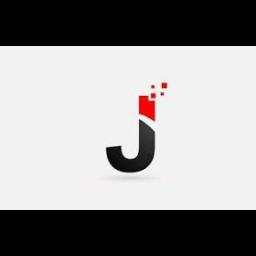j: (102, 90, 160, 180)
